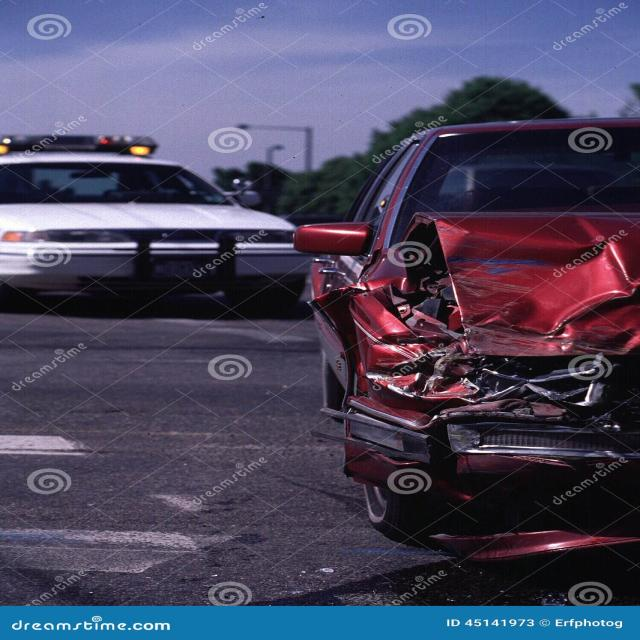crush: (304, 211, 640, 559)
